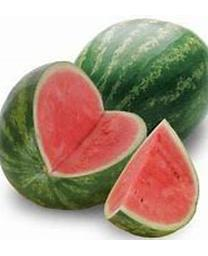watermelon: (0, 62, 149, 211), (70, 15, 207, 144)
